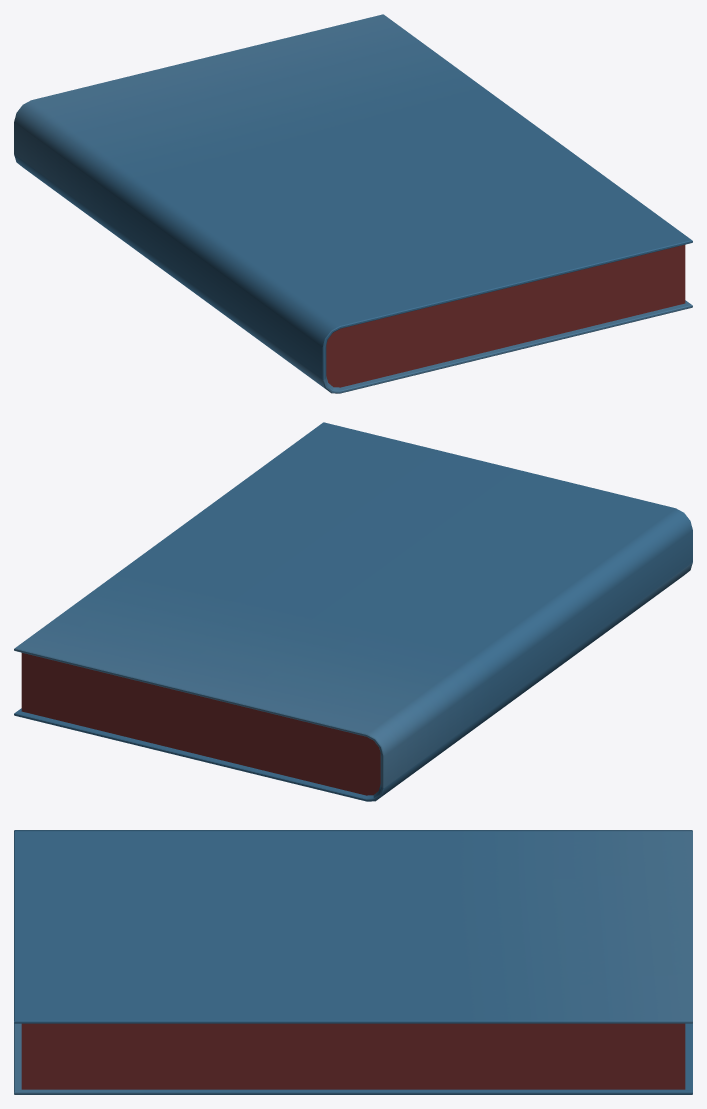
File: SM_Book_01.fbx
The picture shows the model from 3 angles, top to bottom: view 1: azimuth 30°, elevation 25°; view 2: azimuth 150°, elevation 25°; view 3: azimuth 270°, elevation 25°; orthographic projection. The views are drawn at different scales.
Parts seen in each view (by area): view 1: SM_Book_01; view 2: SM_Book_01; view 3: SM_Book_01.
Boxes of the visible parts, left/top/right/bottom form: SM_Book_01: left=14, top=14, right=692, bottom=393; SM_Book_01: left=14, top=422, right=692, bottom=801; SM_Book_01: left=14, top=830, right=692, bottom=1094.
Size of the model in its own units: 13.21 by 2.31 by 19.12.
